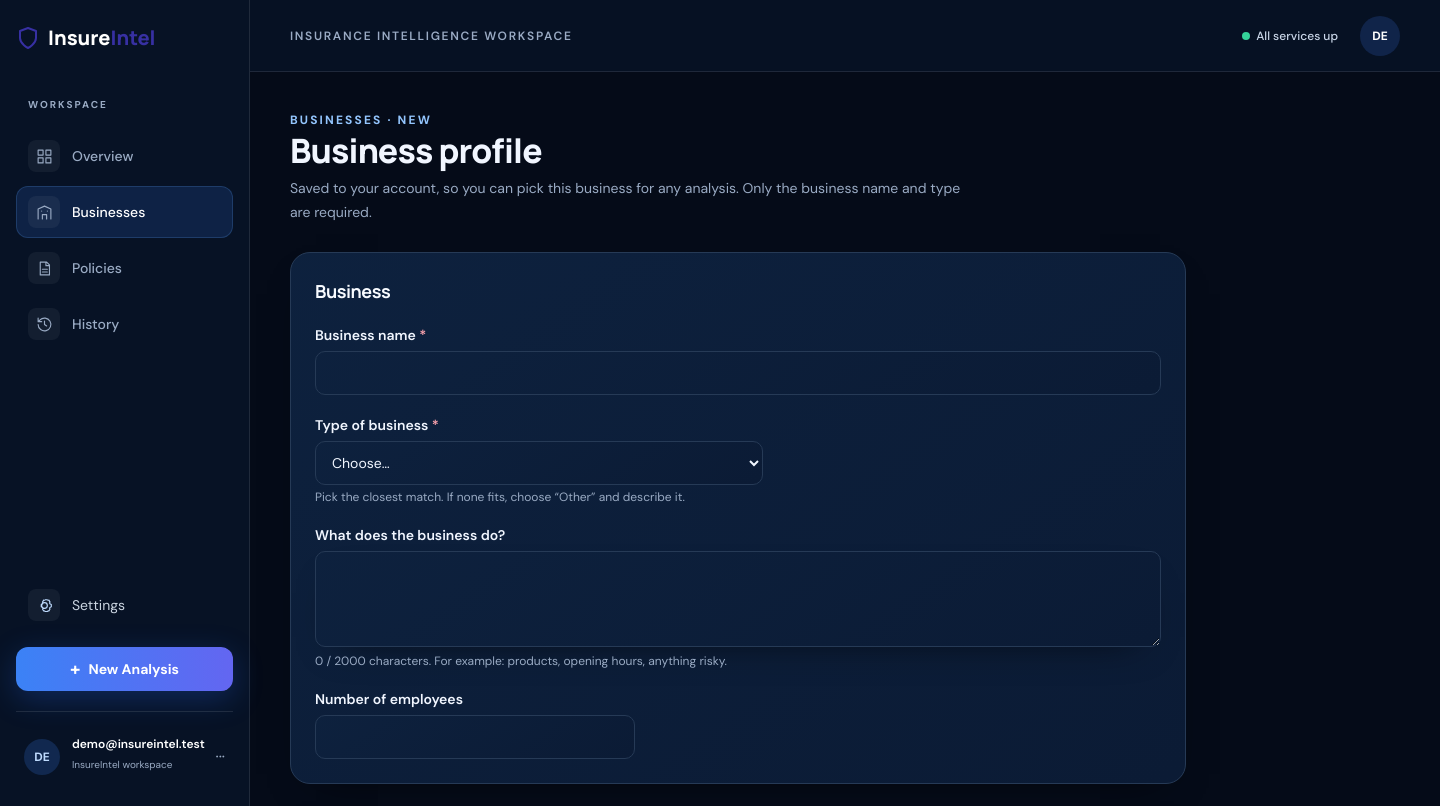
Test: business profile form › rejects 300 employees
The image size is (1440, 806).
Expected: the heading "Business profile" is shown, 290,127 -> 542,173
Expected: the field labelled "Business name *" is shown, 315,351 -> 1161,395
In the field labelled "Number of employees": (475, 737) 315,715 -> 635,759, type "300"
(page scrolled)
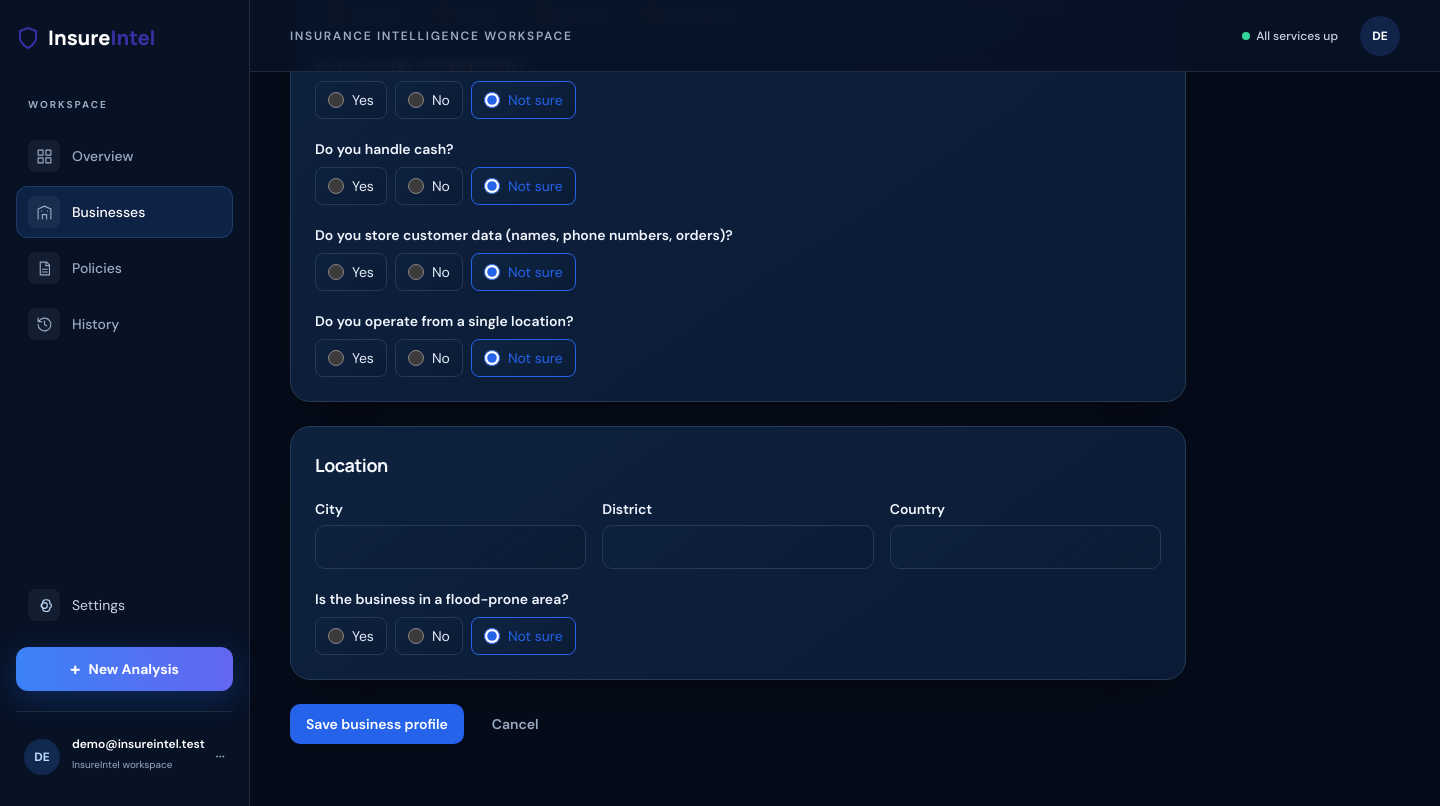
Click the button "Save business profile": (377, 724) 290,704 -> 464,744
(page scrolled)
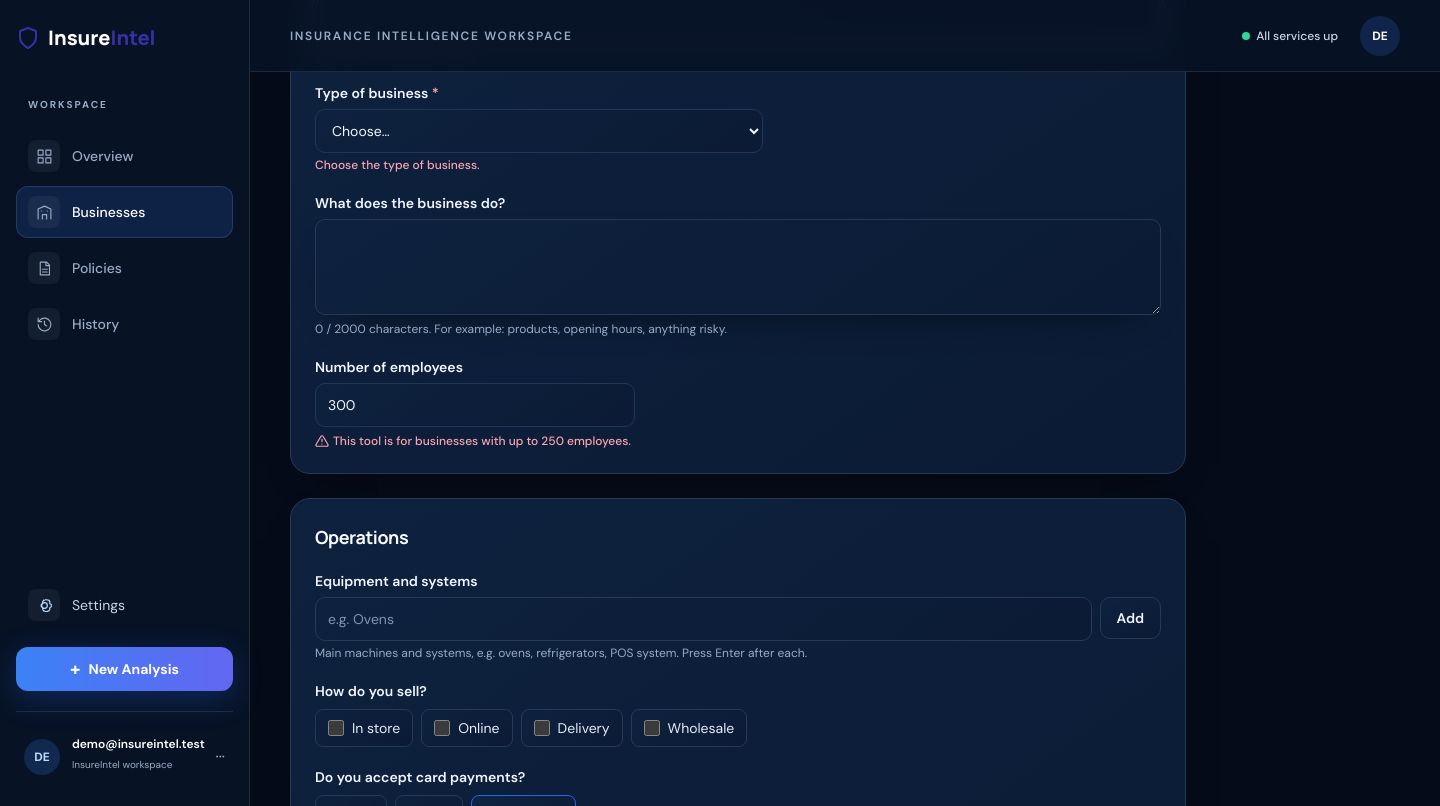
Expected: the text "This tool is for businesses with up to 250 employees." is shown, 315,433 -> 635,449
